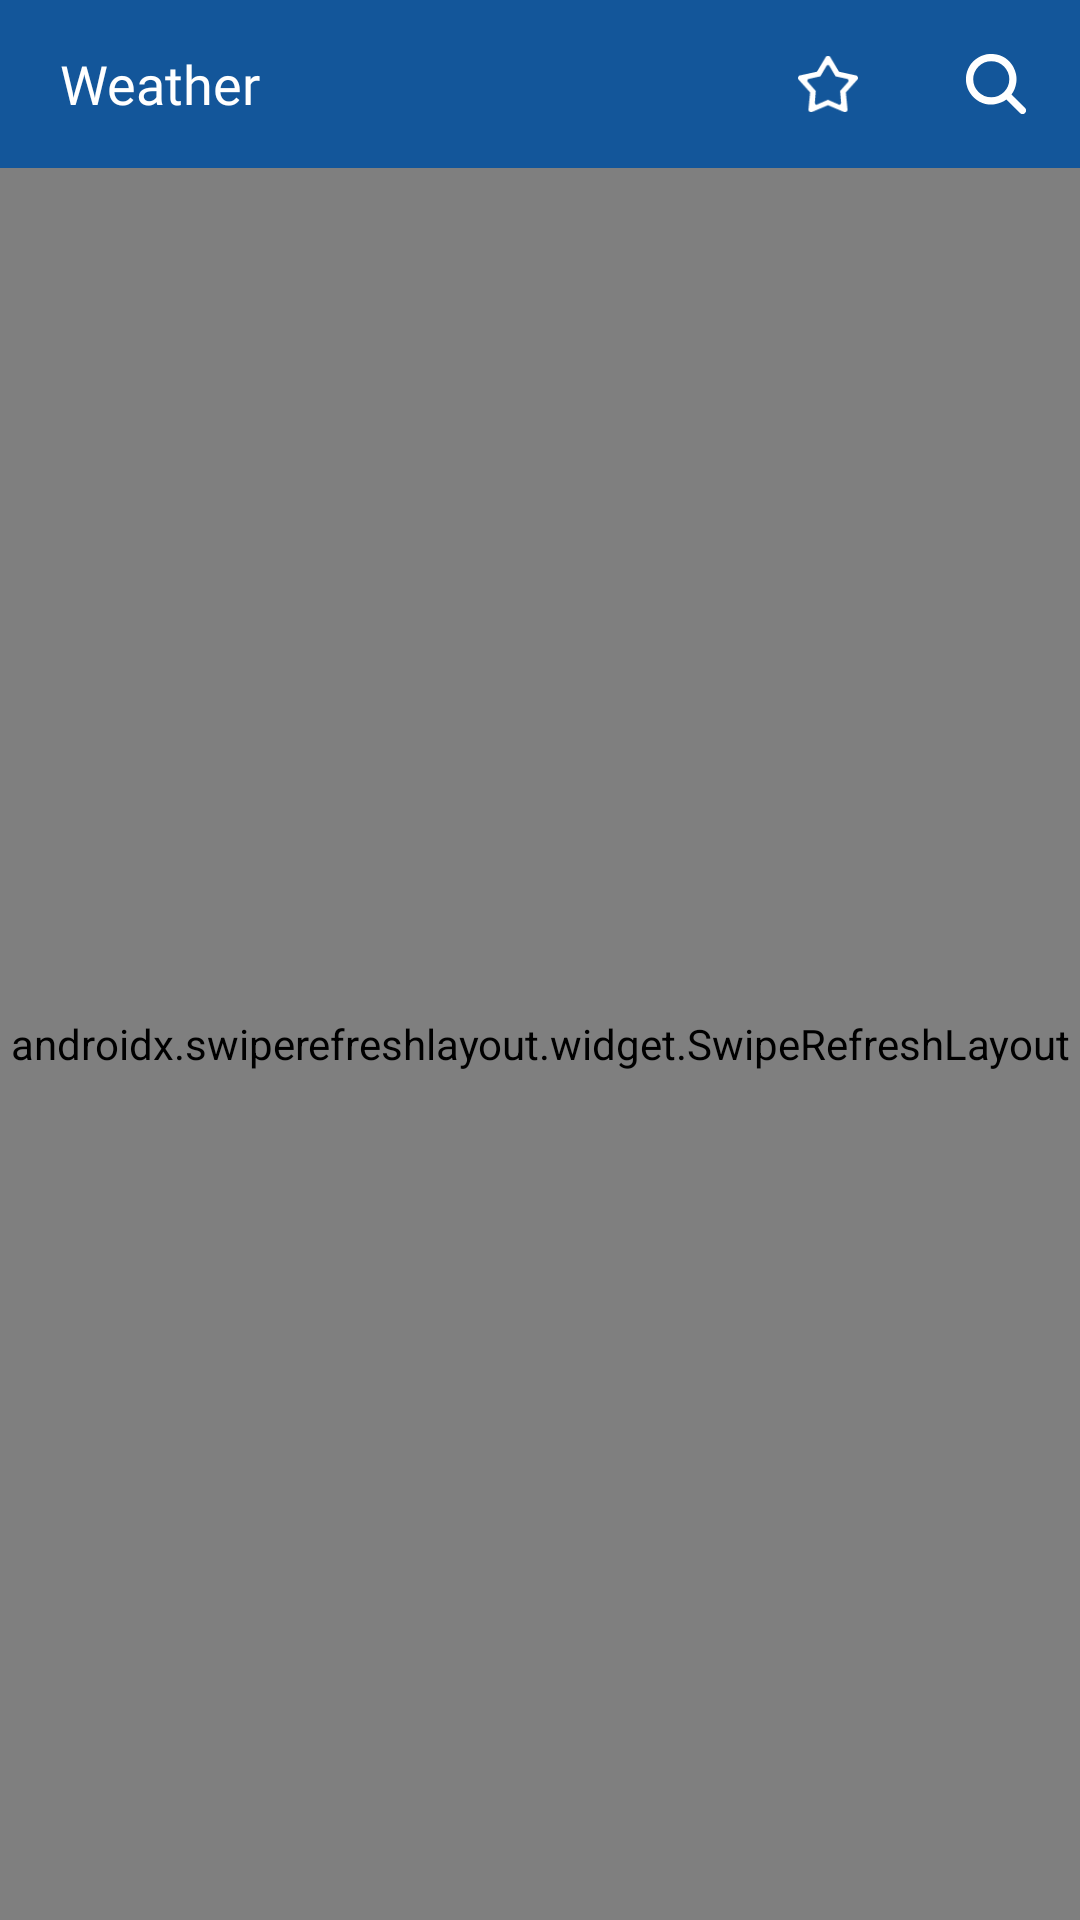

Named icons in this screenshot (1080*1920) and their bounding boxes, (x1, y1, x2, y2):
favorite: (798, 56, 858, 112)
search: (966, 54, 1026, 114)
